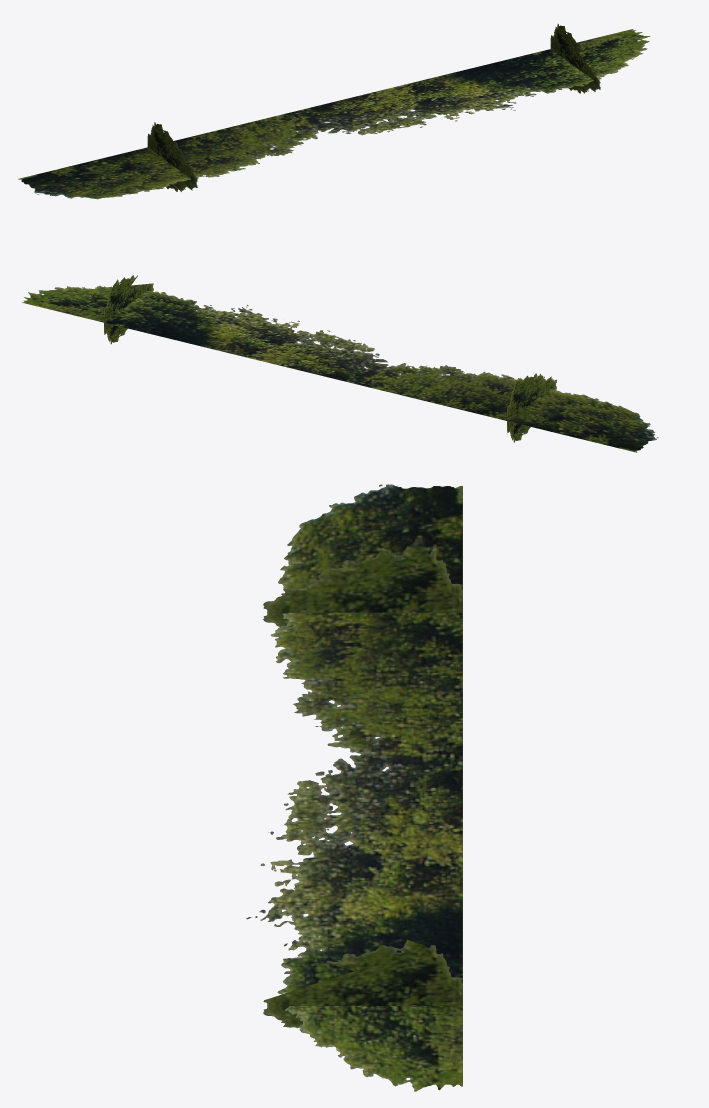
Rendered from Shrubbery_03_20.obj.
3 views of the same model, one above another, from view 1: azimuth 30°, elevation 25°; view 2: azimuth 150°, elevation 25°; view 3: azimuth 270°, elevation 25° (orthographic). The views are drawn at different scales.
Visible parts, largest first — view 1: Object; view 2: Object; view 3: Object.
Boxes of the visible parts, left/top/right/bottom form: Object: left=18, top=24, right=650, bottom=199; Object: left=22, top=275, right=658, bottom=452; Object: left=246, top=484, right=462, bottom=1091.
Bounding box in the file's own units: 20 × 1.99 × 3.
Materials: 1 (1 with a texture image).
